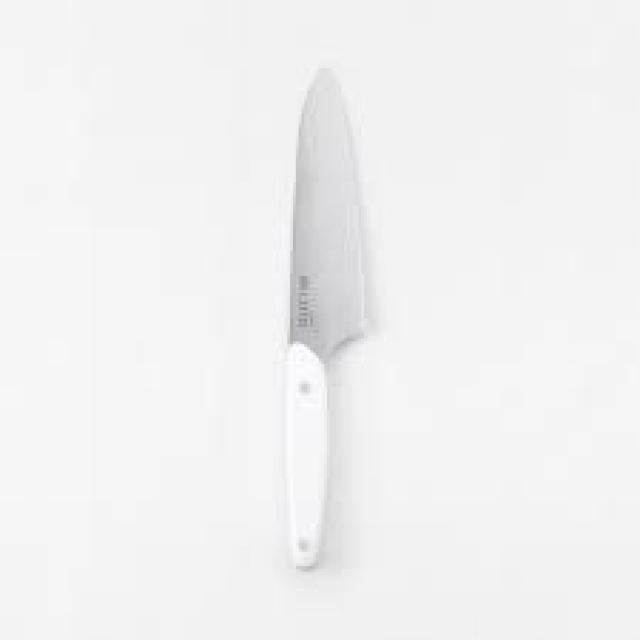Knife: (282, 65, 367, 569)
